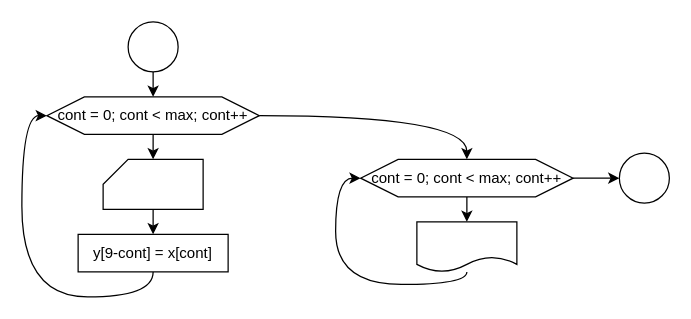
This 691x319 diagram has some shape labels left out. Each missing label, with the box of its shape:
x[cont]: (102, 158, 203, 209)
y[cont]: (416, 221, 517, 272)
